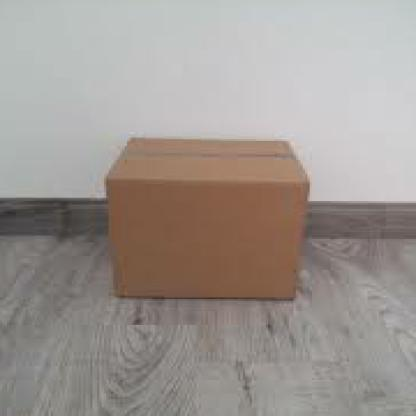box: (93, 129, 322, 308)
